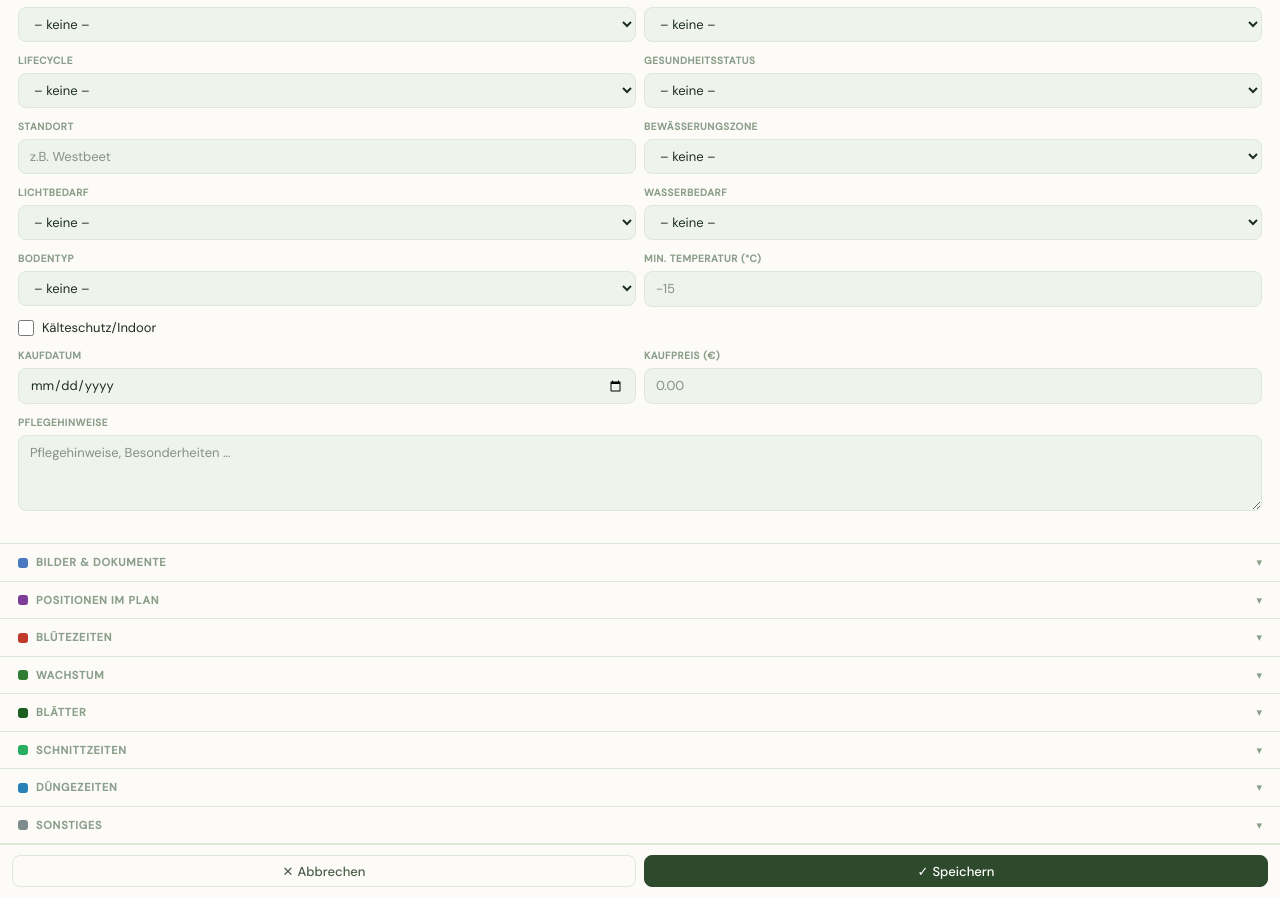
Scenario: PlantEditDialog — save and cancel (AC #6) › shows error when saving without name
The image size is (1280, 897).
(page scrolled)
What coordinates should you click on to do the following:
click the button with test id "edit-save"
I would click on:
 (956, 871)
Its box is left=644, top=855, right=1268, bottom=887.
(page scrolled)
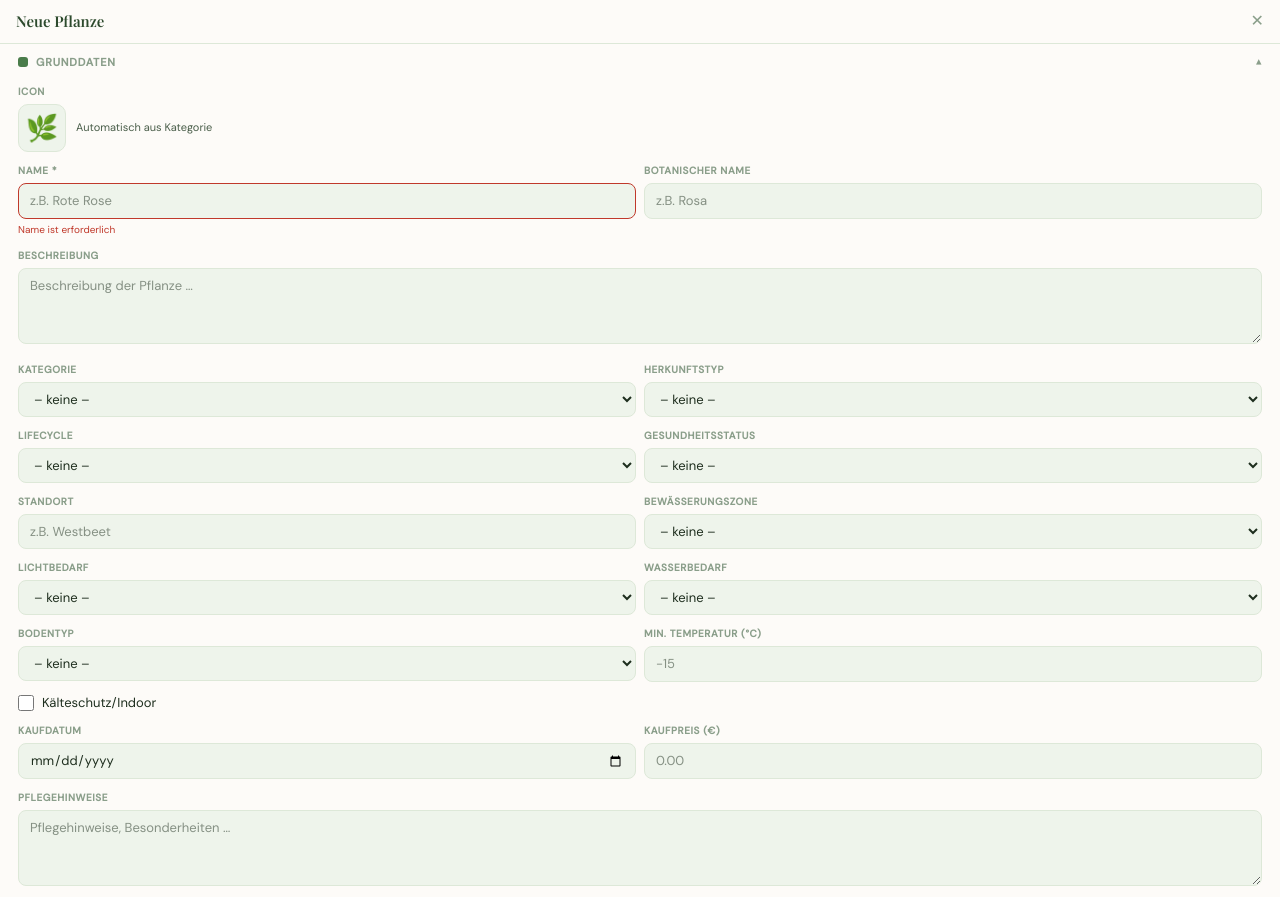
Expected: the text "Name ist erforderlich" is shown, left=18, top=222, right=115, bottom=236
